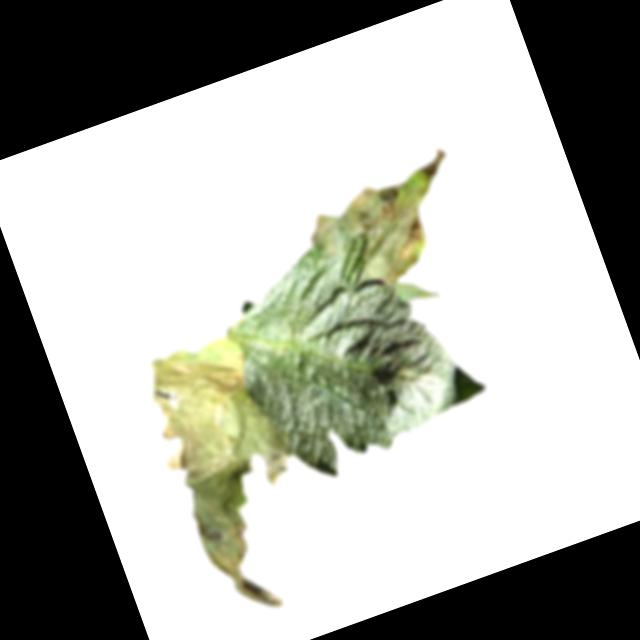Late_blight: (132, 324, 342, 628), (292, 140, 480, 306)
healthy: (207, 206, 498, 495)
